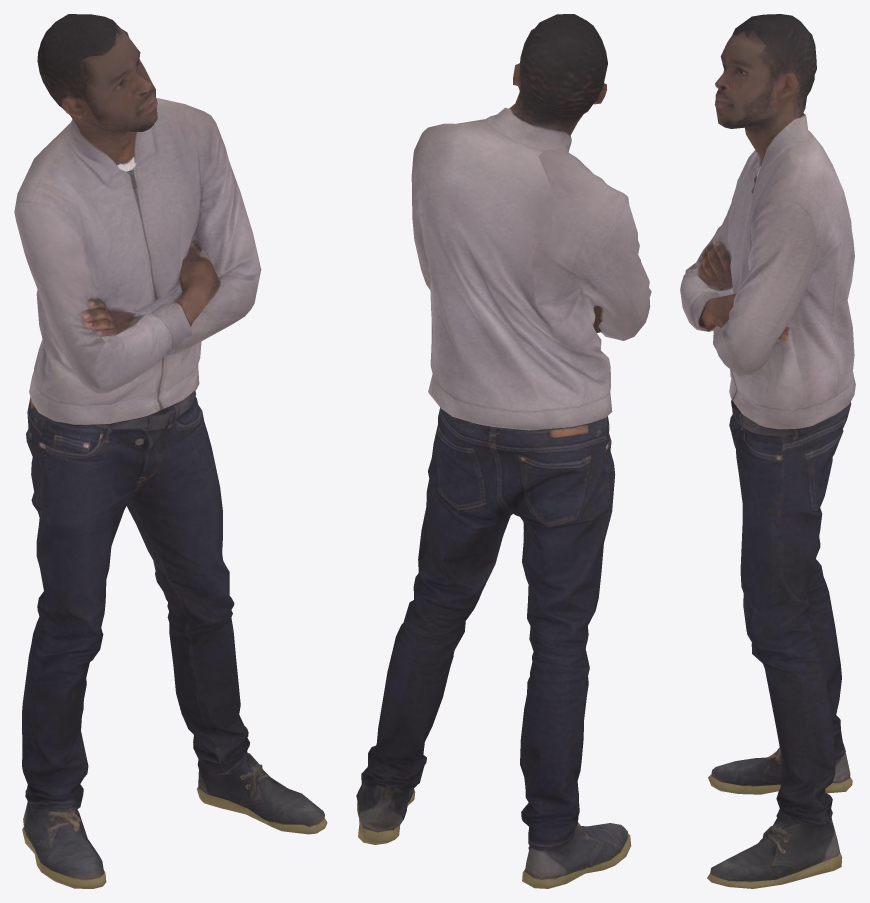
The picture shows the model from 3 angles, left to right: view 1: azimuth 30°, elevation 25°; view 2: azimuth 150°, elevation 25°; view 3: azimuth 270°, elevation 25°; orthographic projection. The views are drawn at different scales.
Parts seen in each view (by area): view 1: Cas_Sum_Man_RtStand_366_StingrayPBS1_0; view 2: Cas_Sum_Man_RtStand_366_StingrayPBS1_0; view 3: Cas_Sum_Man_RtStand_366_StingrayPBS1_0.
Boxes of the visible parts, left/top/right/bottom form: Cas_Sum_Man_RtStand_366_StingrayPBS1_0: left=14, top=14, right=327, bottom=888; Cas_Sum_Man_RtStand_366_StingrayPBS1_0: left=356, top=14, right=651, bottom=888; Cas_Sum_Man_RtStand_366_StingrayPBS1_0: left=680, top=14, right=855, bottom=888.
Size of the model in its own units: 0.6153 by 1.76 by 0.3604.
1 material, 1 textured.
